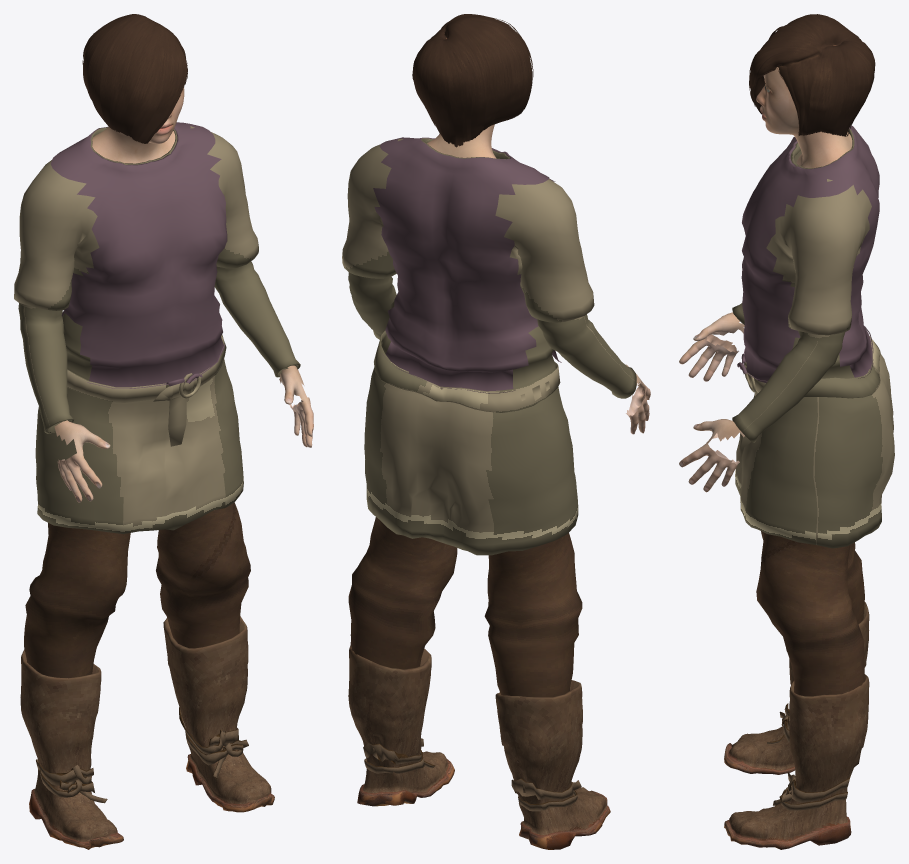
Rendered from mara-work-vest.glb.
3 renders of one model, left to right at view 1: azimuth 30°, elevation 25°; view 2: azimuth 150°, elevation 25°; view 3: azimuth 270°, elevation 25°, orthographic. The views are drawn at different scales.
Visible parts, largest first — view 1: mara-work-vest runtime mesh; view 2: mara-work-vest runtime mesh; view 3: mara-work-vest runtime mesh.
Boxes of the visible parts, bbox=[...] form: mara-work-vest runtime mesh: bbox=[14, 14, 313, 849]; mara-work-vest runtime mesh: bbox=[342, 14, 650, 849]; mara-work-vest runtime mesh: bbox=[679, 14, 894, 849].
Bounding box in the file's own units: 0.6279 × 1.85 × 0.4633.
Materials: 9 (7 with a texture image).
